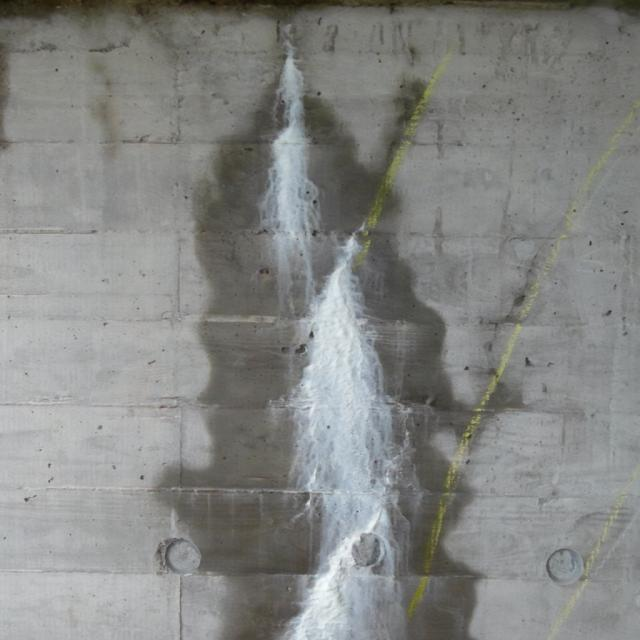D01: (282, 234, 404, 639), (266, 46, 316, 273)
